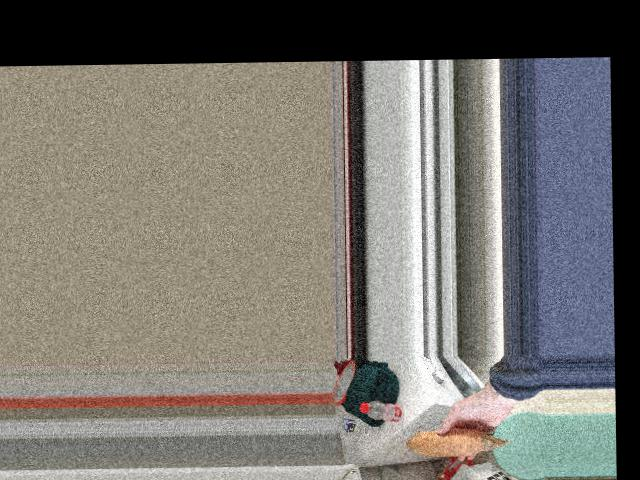sweet_potato: (419, 429, 494, 452)
